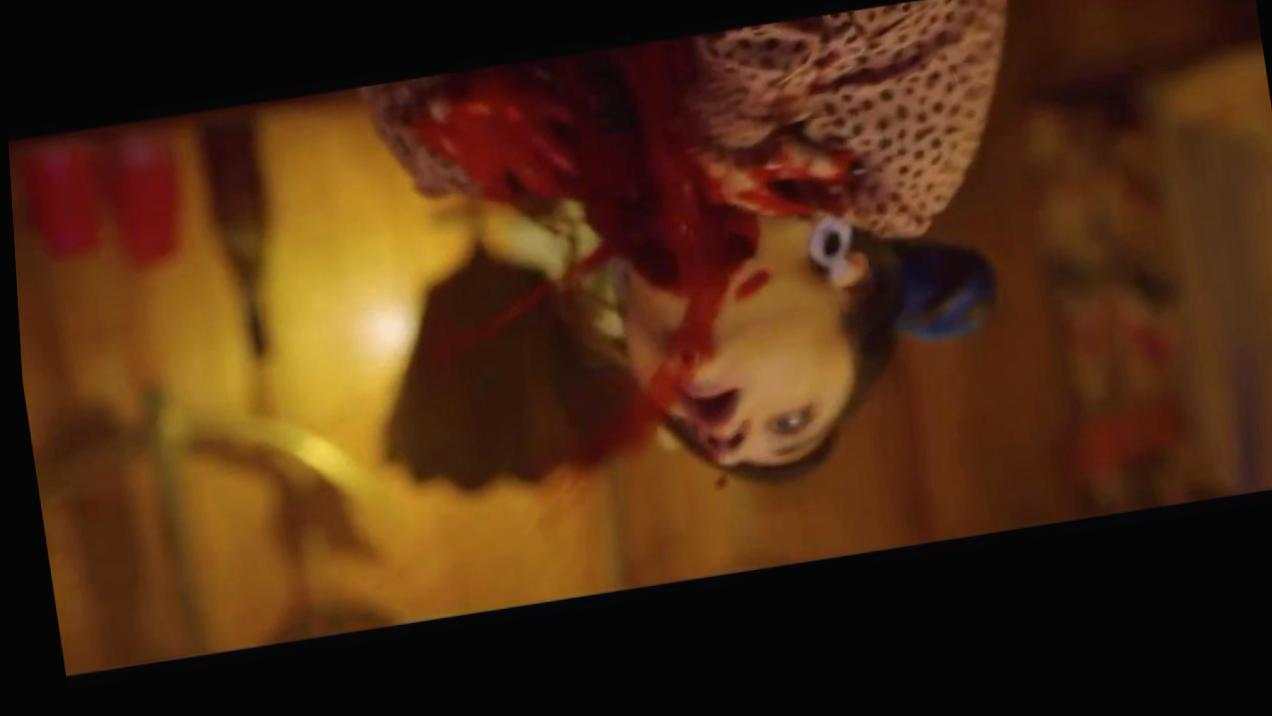Fire: (410, 50, 852, 493), (695, 449, 722, 502)
